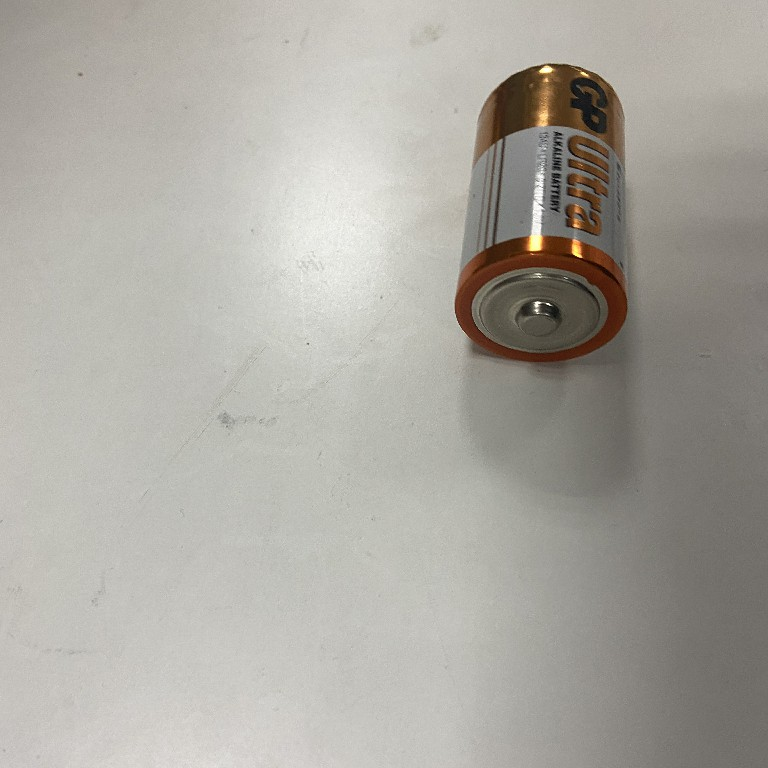charge: (453, 61, 627, 365)
